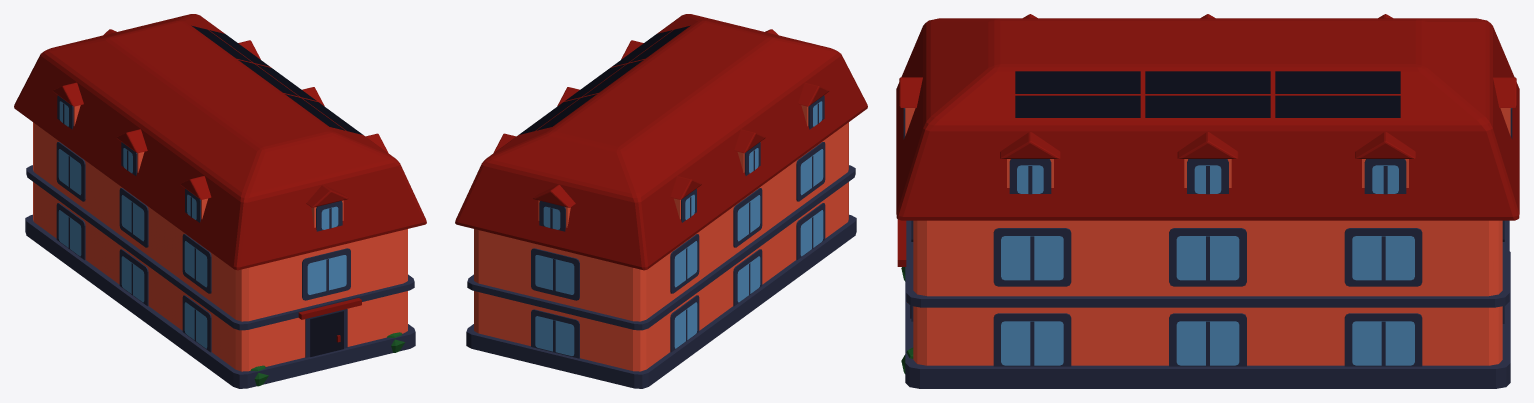
File: house-1x2-2f-mansard-c-solar.glb
The picture shows the model from 3 angles, left to right: view 1: azimuth 30°, elevation 25°; view 2: azimuth 150°, elevation 25°; view 3: azimuth 270°, elevation 25°; orthographic projection. The views are drawn at different scales.
Visible parts, largest first — view 1: house-1x2-2f-mansard-c-solar; view 2: house-1x2-2f-mansard-c-solar; view 3: house-1x2-2f-mansard-c-solar.
Part boxes in pixels (x1,y1,x2,y2): house-1x2-2f-mansard-c-solar: [14, 14, 426, 388]; house-1x2-2f-mansard-c-solar: [455, 14, 867, 388]; house-1x2-2f-mansard-c-solar: [896, 14, 1519, 388].
Bounding box in the file's own units: 0.9876 × 1 × 1.99.
1 material, 1 textured.
